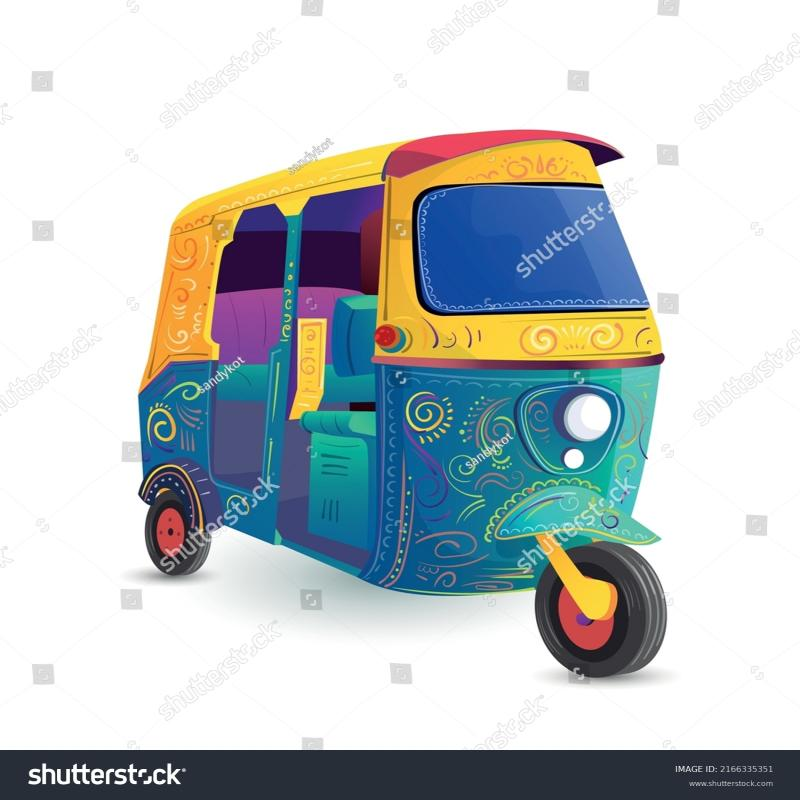auto: (110, 93, 712, 701)
